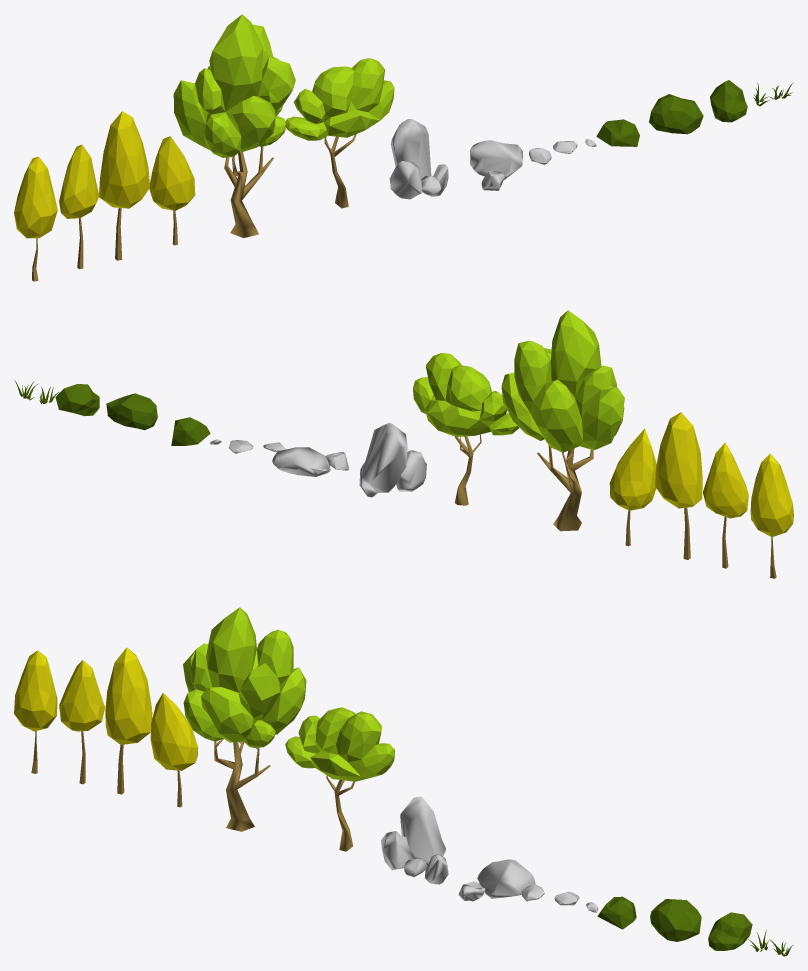
The model's file is LowPolyNature_1.fbx.
3 views of the same model, one above another, from view 1: azimuth 30°, elevation 25°; view 2: azimuth 150°, elevation 25°; view 3: azimuth 330°, elevation 25° (orthographic).
Visible parts, largest first — view 1: LPN1_Tree_B_1, LPN1_Tree_B_2, LPN1_Tree_A_3, LPN1_Rock_1, LPN1_Tree_A_1, LPN1_Tree_A_4, LPN1_Tree_A_2, LPN1_Rock_2, LPN1_Bush_2, LPN1_Bush_3, LPN1_Bush_1; view 2: LPN1_Tree_B_1, LPN1_Tree_B_2, LPN1_Tree_A_3, LPN1_Rock_1, LPN1_Tree_A_4, LPN1_Tree_A_1, LPN1_Tree_A_2, LPN1_Rock_2, LPN1_Bush_2, LPN1_Bush_3, LPN1_Bush_1; view 3: LPN1_Tree_B_1, LPN1_Tree_B_2, LPN1_Tree_A_3, LPN1_Rock_1, LPN1_Tree_A_4, LPN1_Tree_A_1, LPN1_Tree_A_2, LPN1_Rock_2, LPN1_Bush_2, LPN1_Bush_3, LPN1_Bush_1.
Part boxes in pixels (left/top/right/bottom): LPN1_Tree_B_1: left=173, top=14, right=295, bottom=237; LPN1_Tree_B_2: left=285, top=58, right=394, bottom=208; LPN1_Tree_A_3: left=99, top=111, right=149, bottom=260; LPN1_Rock_1: left=389, top=119, right=448, bottom=199; LPN1_Tree_A_1: left=14, top=156, right=57, bottom=281; LPN1_Tree_A_4: left=149, top=136, right=195, bottom=245; LPN1_Tree_A_2: left=59, top=144, right=99, bottom=269; LPN1_Rock_2: left=470, top=140, right=551, bottom=190; LPN1_Bush_2: left=649, top=94, right=703, bottom=134; LPN1_Bush_3: left=710, top=80, right=747, bottom=122; LPN1_Bush_1: left=596, top=119, right=639, bottom=146; LPN1_Tree_B_1: left=501, top=310, right=624, bottom=531; LPN1_Tree_B_2: left=413, top=353, right=519, bottom=505; LPN1_Tree_A_3: left=655, top=412, right=702, bottom=559; LPN1_Rock_1: left=359, top=422, right=426, bottom=497; LPN1_Tree_A_4: left=609, top=428, right=656, bottom=546; LPN1_Tree_A_1: left=750, top=453, right=793, bottom=578; LPN1_Tree_A_2: left=702, top=442, right=748, bottom=568; LPN1_Rock_2: left=263, top=442, right=349, bottom=476; LPN1_Bush_2: left=106, top=393, right=157, bottom=430; LPN1_Bush_3: left=55, top=384, right=99, bottom=416; LPN1_Bush_1: left=171, top=417, right=210, bottom=445; LPN1_Tree_B_1: left=183, top=607, right=306, bottom=831; LPN1_Tree_B_2: left=285, top=707, right=394, bottom=851; LPN1_Tree_A_3: left=105, top=647, right=152, bottom=794; LPN1_Rock_1: left=381, top=796, right=448, bottom=884; LPN1_Tree_A_4: left=150, top=693, right=198, bottom=807; LPN1_Tree_A_1: left=14, top=650, right=57, bottom=773; LPN1_Tree_A_2: left=59, top=660, right=105, bottom=784; LPN1_Rock_2: left=458, top=859, right=544, bottom=901; LPN1_Bush_2: left=650, top=899, right=701, bottom=941; LPN1_Bush_3: left=708, top=912, right=752, bottom=950; LPN1_Bush_1: left=597, top=896, right=636, bottom=929.
Size of the model in its own units: 1010 by 288 by 112.
